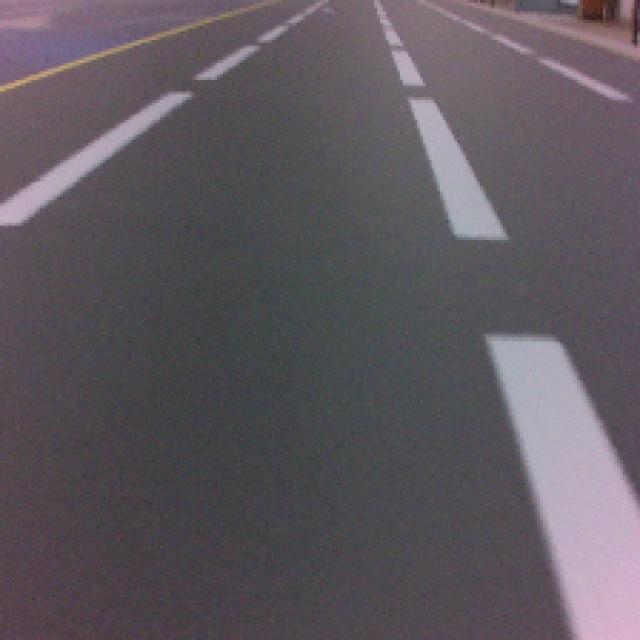Road: (4, 325, 574, 640)
